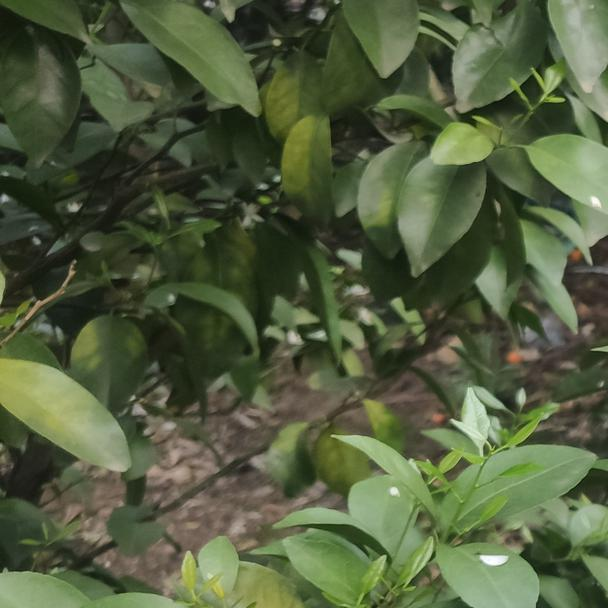shoot: (438, 400, 542, 525)
